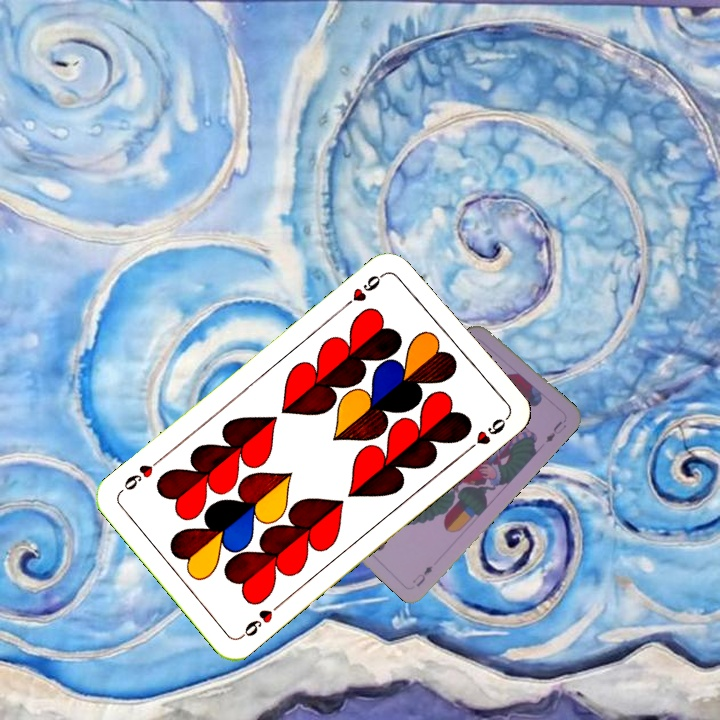EU: (408, 562, 435, 589)
H9: (236, 598, 285, 641), (340, 268, 389, 311)
